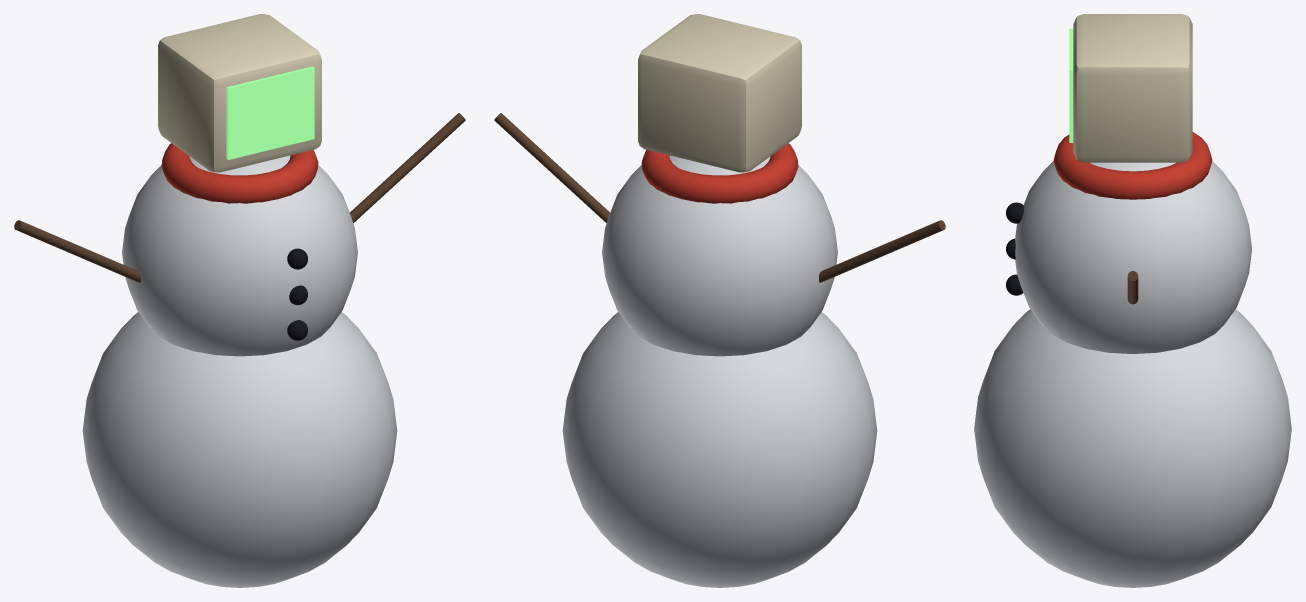
The model's file is snowman_crt.glb.
The picture shows the model from 3 angles, left to right: view 1: azimuth 30°, elevation 25°; view 2: azimuth 150°, elevation 25°; view 3: azimuth 270°, elevation 25°; orthographic projection.
Visible parts, largest first — view 1: snow, head, Torus; view 2: snow, head, Torus; view 3: snow, head, Torus.
Part boxes in pixels (box(x1,y1,x2,y2)): snow: box(14, 113, 465, 587); head: box(158, 14, 321, 172); Torus: box(161, 143, 318, 203); snow: box(494, 113, 945, 587); head: box(638, 14, 801, 172); Torus: box(641, 143, 798, 203); snow: box(974, 161, 1291, 587); head: box(1069, 14, 1192, 162); Torus: box(1053, 132, 1212, 199).
Size of the model in its own units: 1.98 by 2.23 by 1.2.
